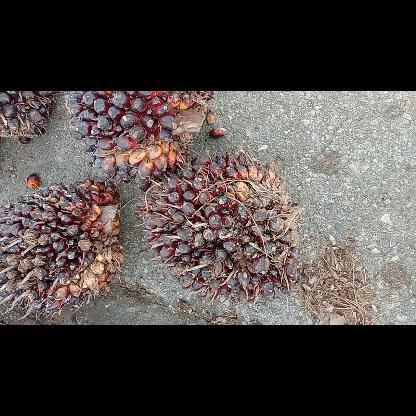TBS mentah: (134, 150, 298, 300), (0, 177, 121, 316), (65, 92, 215, 184), (1, 92, 57, 144)
